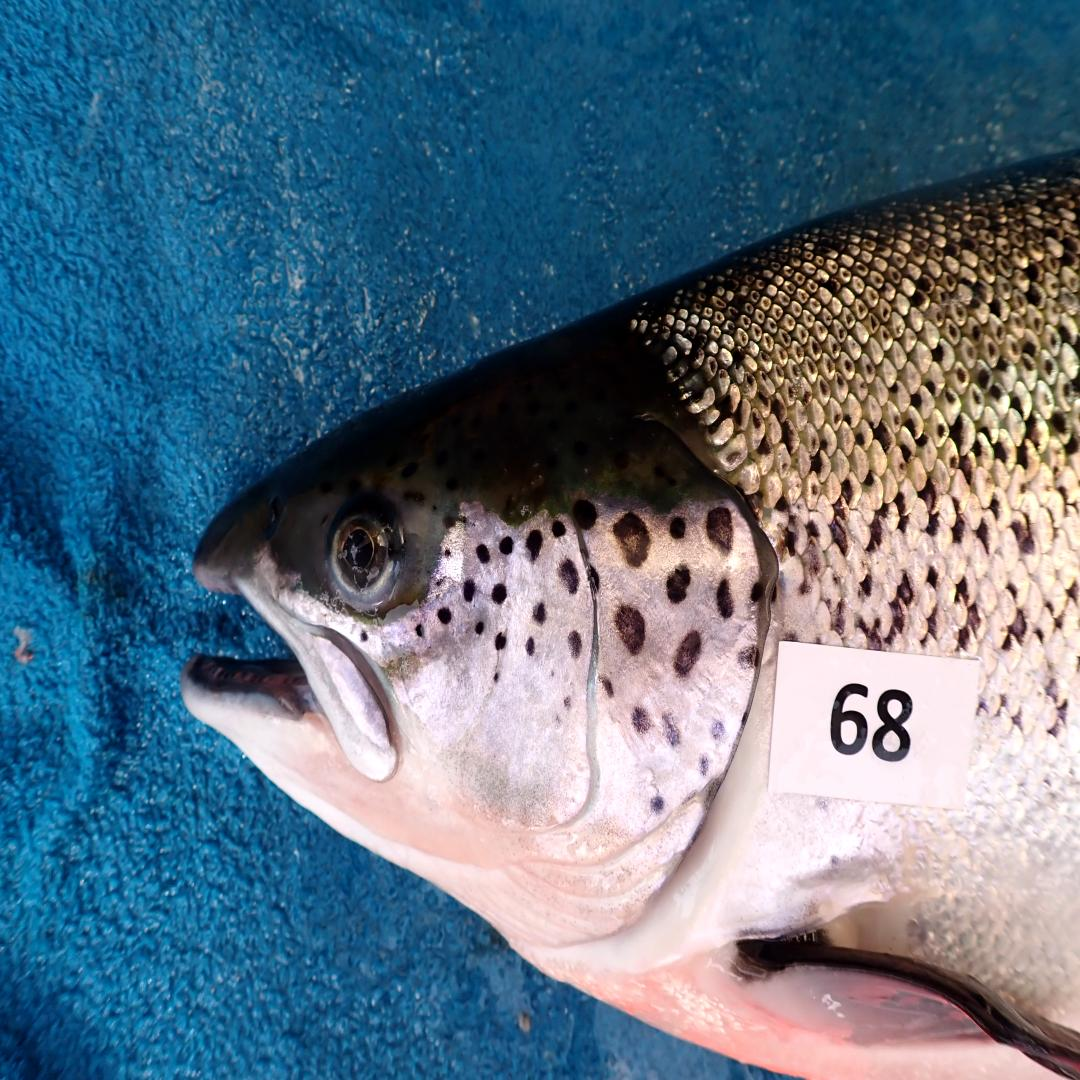roi: (395, 495, 771, 960)
